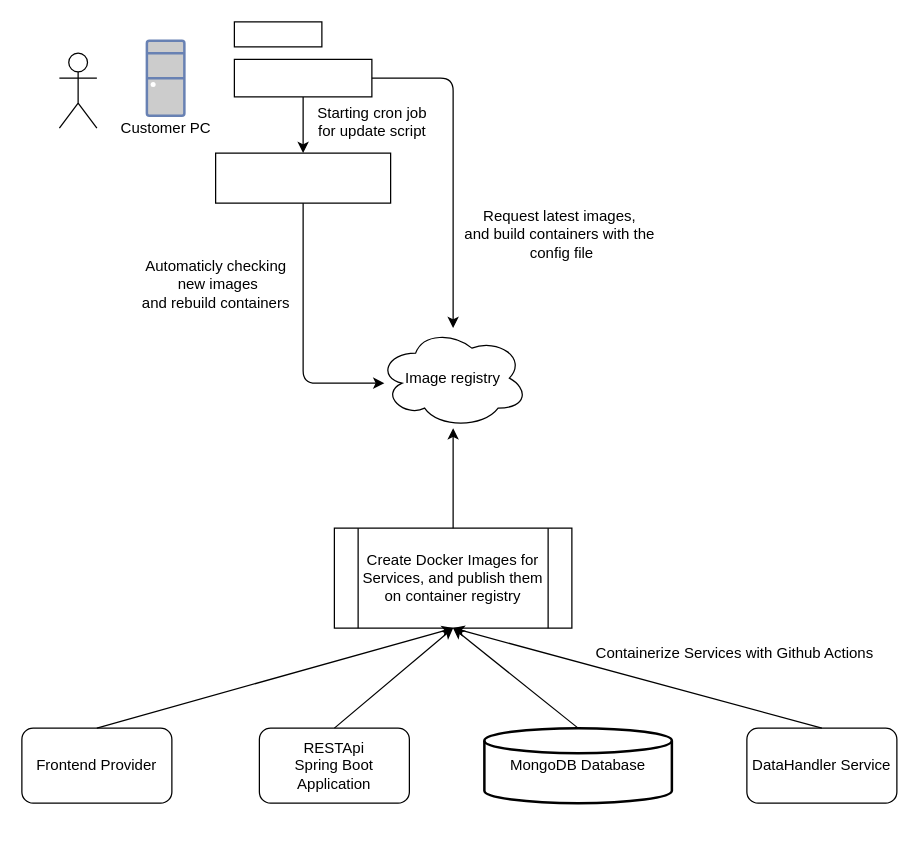
Some shapes in this 919 by 848 pixel diagram are drawn without their labels. The shapes that lost their labels are listed below. From the top down, each one's centre as x and y in pixels, then its label:
At (x=277, y=34): "Config file".
At (x=302, y=77): "intitial startup script".
At (x=302, y=177): "checking for new image versions script".
